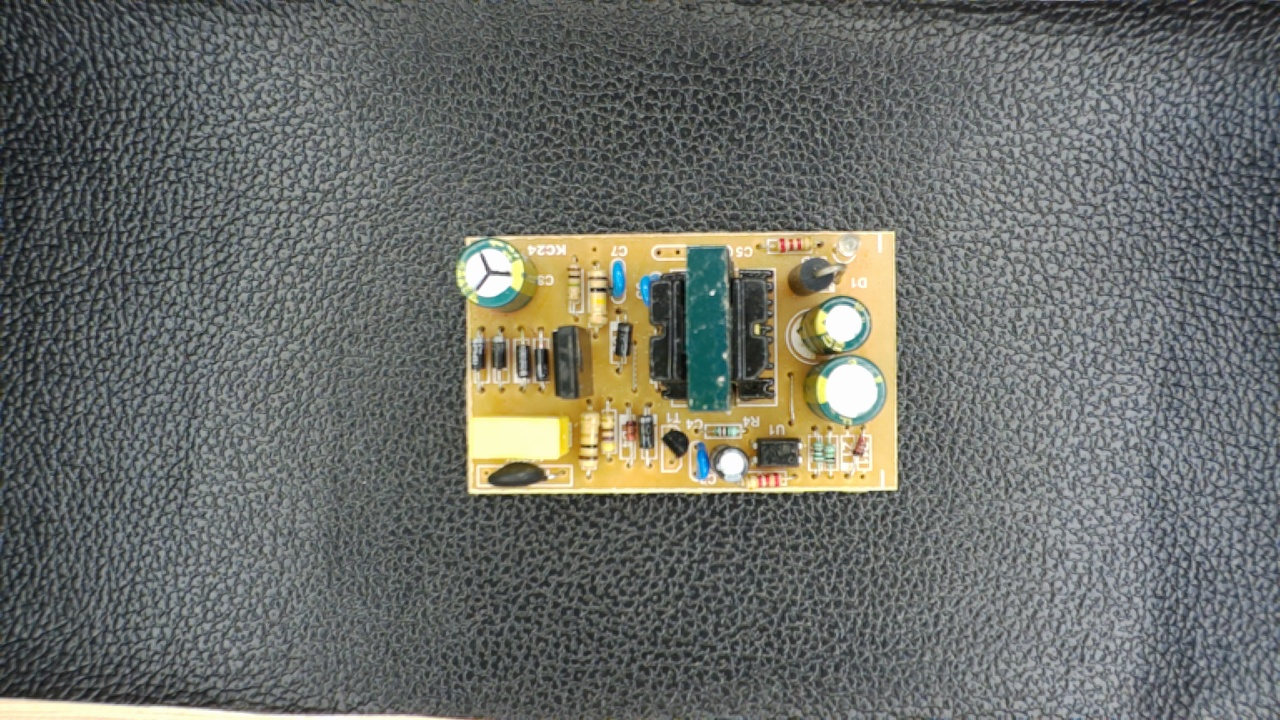fuse: (476, 458, 560, 494)
hv_capacitor: (452, 239, 543, 312)
optocoupler: (746, 431, 809, 476)
